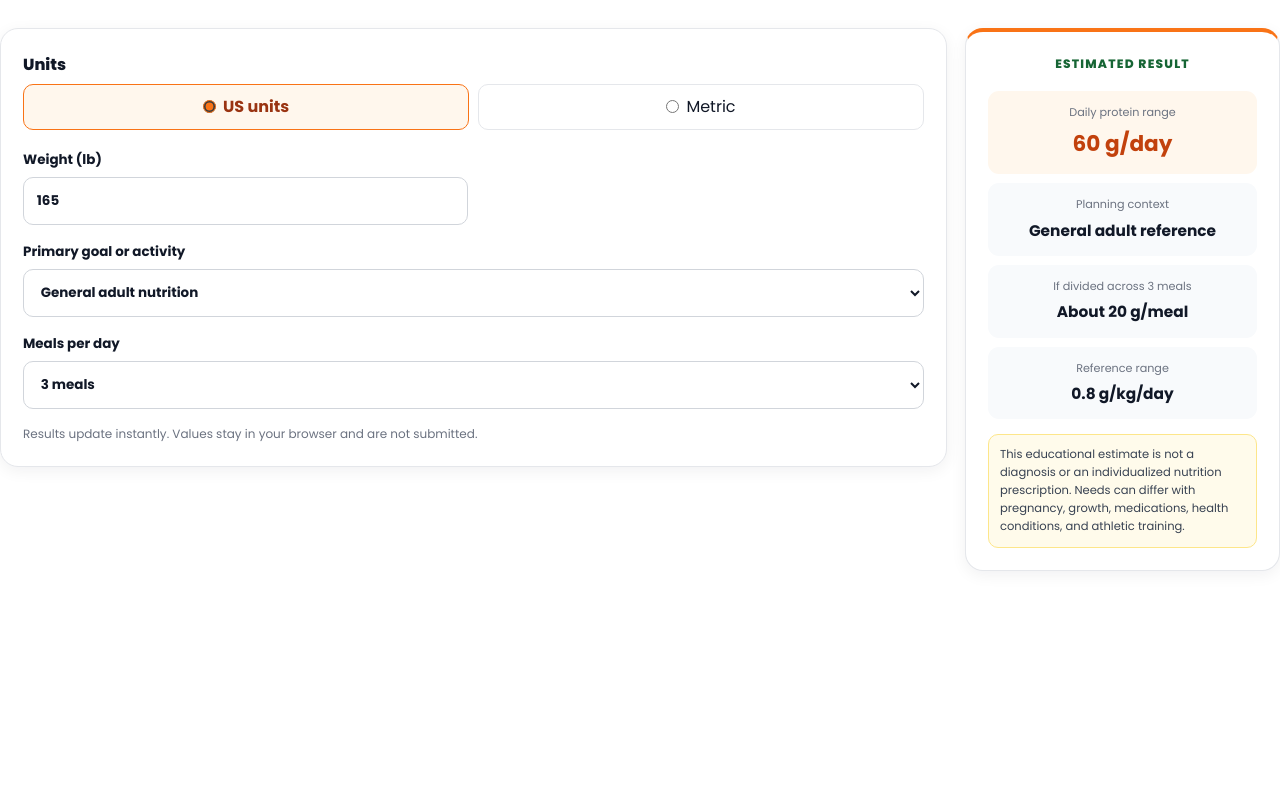
supporting calculator UX › returns a goal-based protein range and meal view
Select "Strength training or muscle gain" in the dropdown labelled "Primary goal or activity" at [474, 293], box [23,269,924,317]
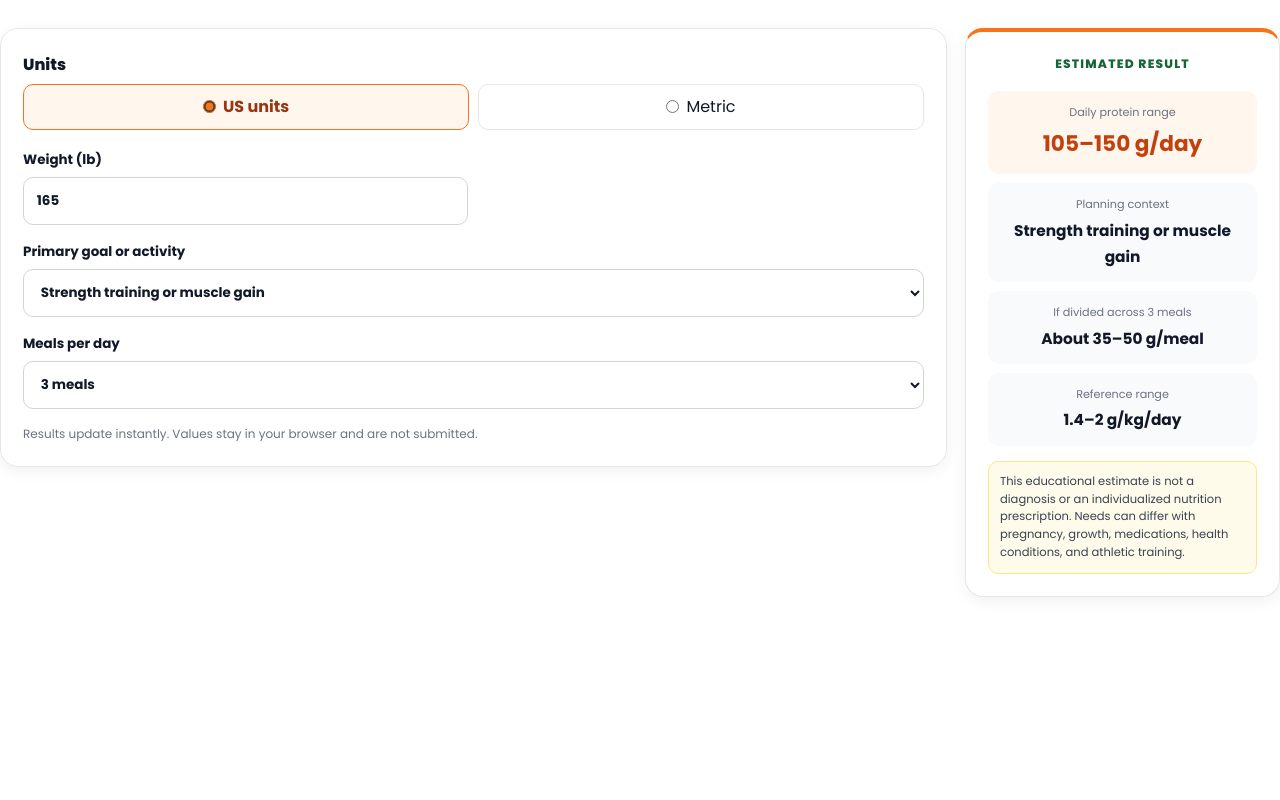
Select "4 meals" in the dropdown labelled "Meals per day" at [474, 385], box [23,361,924,409]
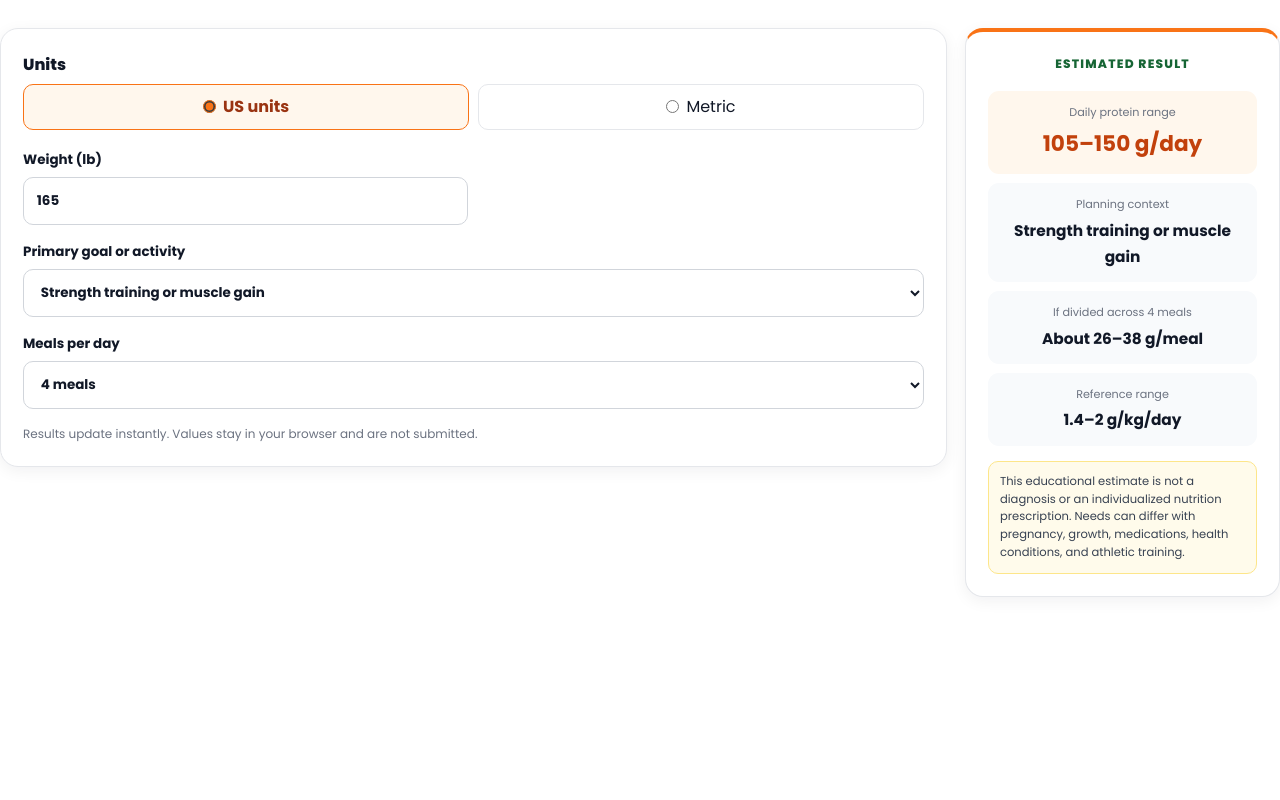
Now the element named "Calculator results" shows "105–150 g/day", box [1043,128,1202,159]
Now the element named "Calculator results" shows "If divided across 4 meals", box [1053,304,1192,320]
